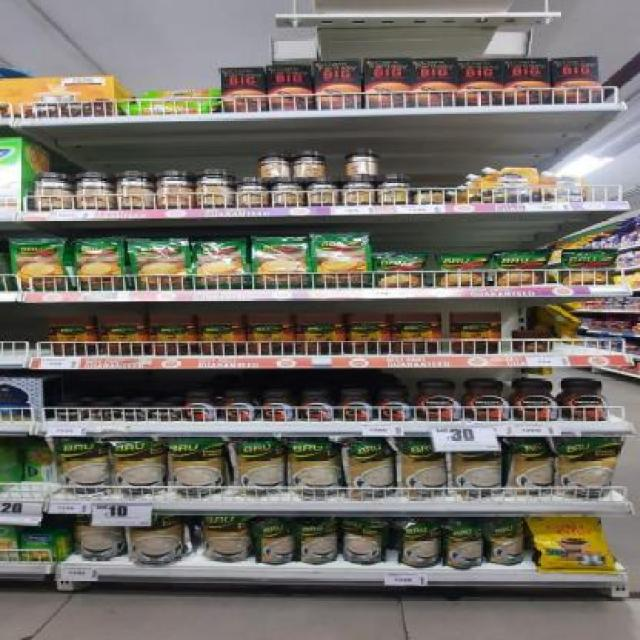Coffee: (563, 380, 611, 420), (512, 382, 560, 421), (463, 382, 511, 420), (417, 381, 461, 422), (221, 392, 256, 422), (339, 392, 375, 421), (300, 392, 334, 422), (379, 392, 413, 421), (184, 392, 216, 422), (262, 392, 296, 420), (52, 404, 85, 421), (87, 404, 116, 421), (119, 404, 148, 421), (150, 404, 179, 421)
